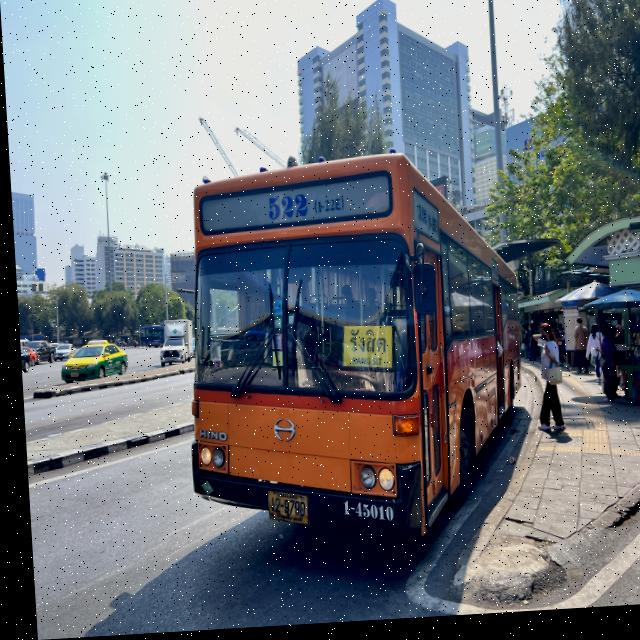BMTA-bus: (171, 155, 526, 555)
Bus-Line-Number: (259, 191, 345, 226)
Destination-Sign-Normal-Expressway: (335, 325, 391, 377)
